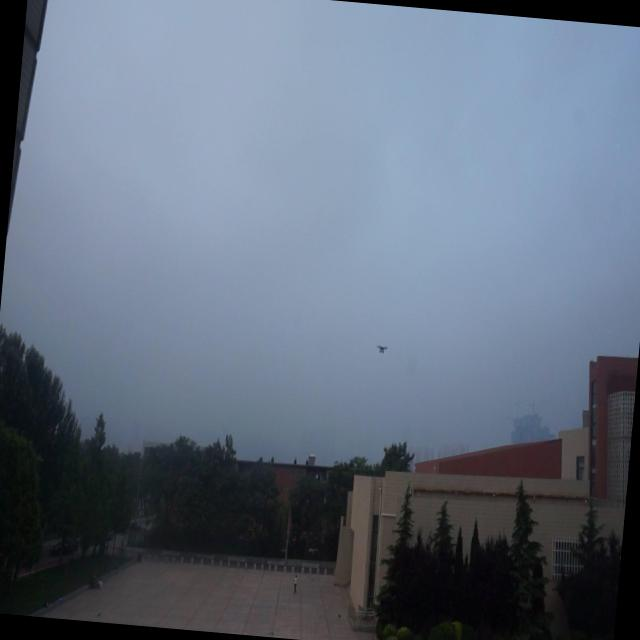drone: (374, 340, 390, 356)
